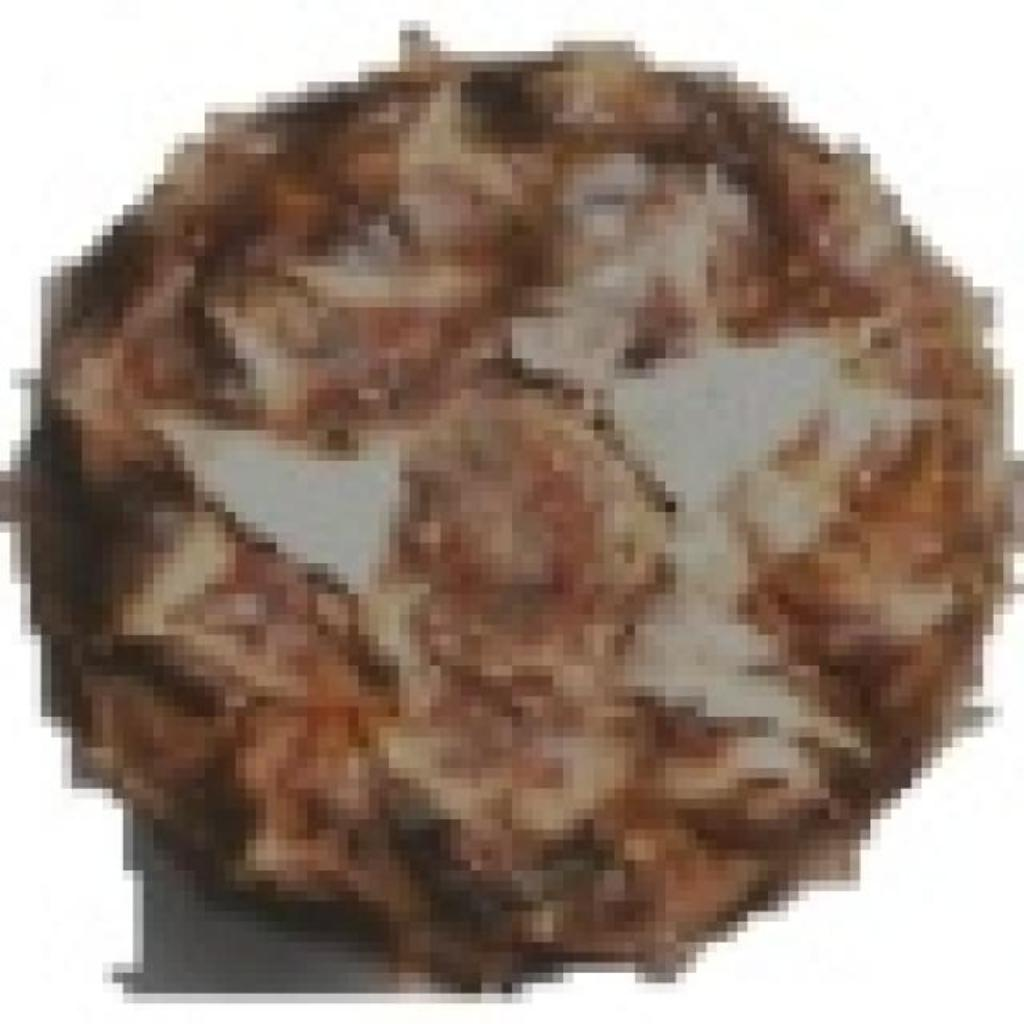pineapple: (51, 20, 1014, 963)
